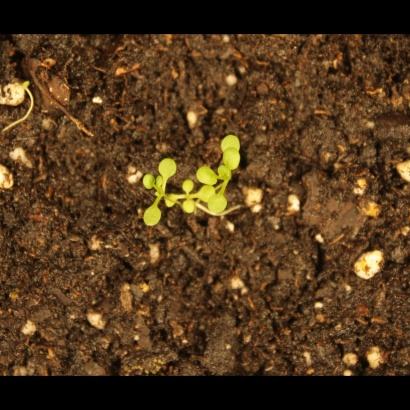leaf: (219, 145, 246, 173), (156, 157, 179, 183), (135, 168, 158, 193), (141, 205, 164, 228), (177, 200, 200, 223), (176, 173, 199, 196), (206, 192, 229, 215), (197, 165, 220, 188), (220, 132, 243, 155)
